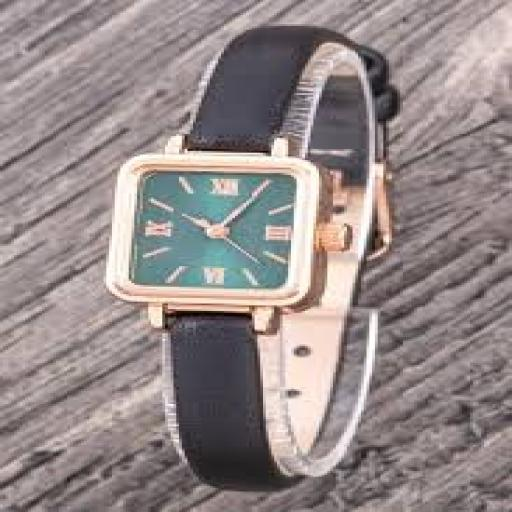KolSaati: (54, 10, 467, 488)
